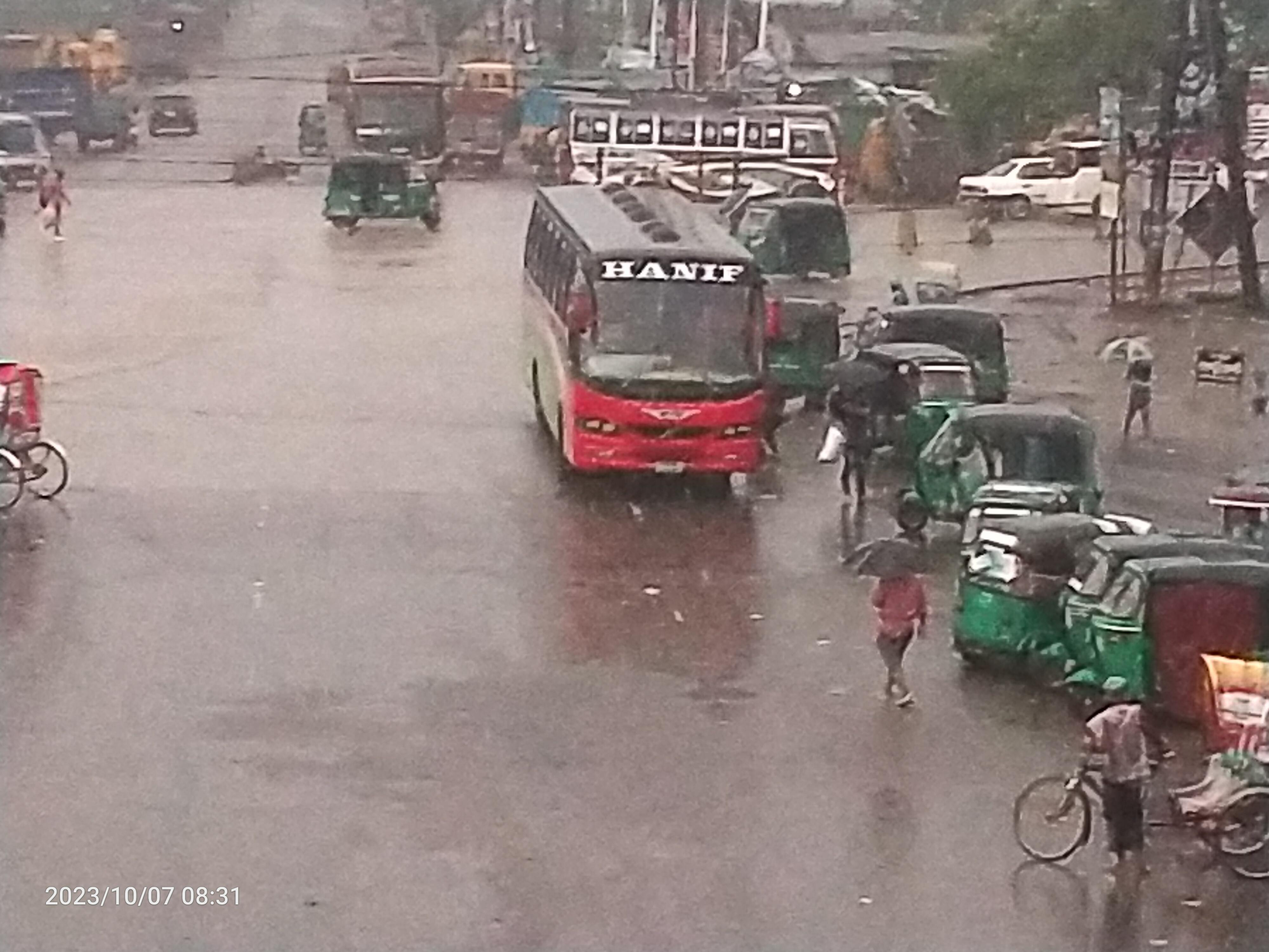Bus: (500, 158, 799, 515), (514, 72, 870, 223)
Car: (997, 636, 1269, 894), (937, 125, 1148, 237), (0, 335, 86, 559), (133, 75, 206, 154)
